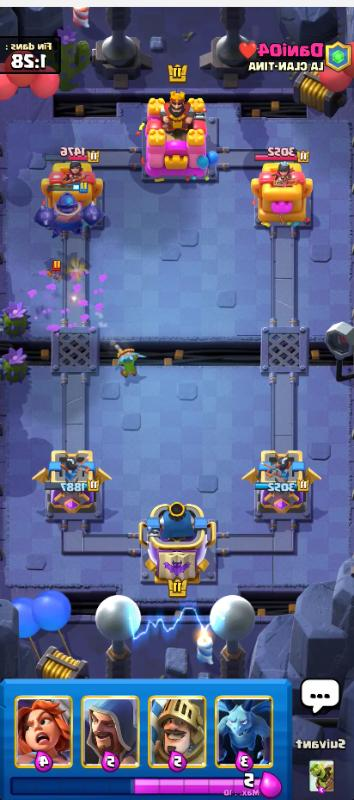bat: (44, 260, 66, 281)
